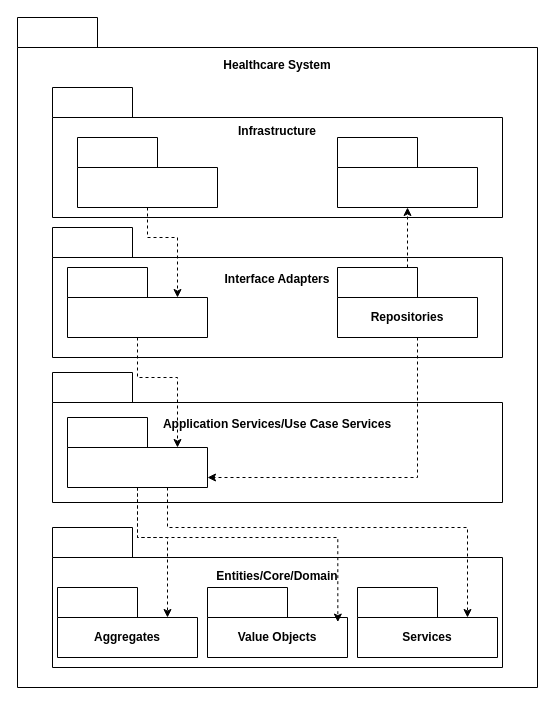
This 555x705 diagram has some shape labels left out. Each missing label, with the centre of its shape:
"App Services" belongs at (137,452).
"Controllers" belongs at (137,302).
"Persistence" belongs at (407,172).
"Routes" belongs at (147,172).
